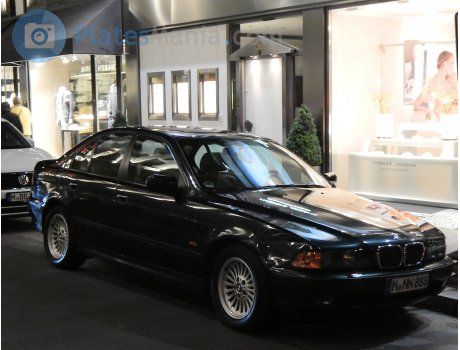License Plates: (391, 278, 430, 286)
